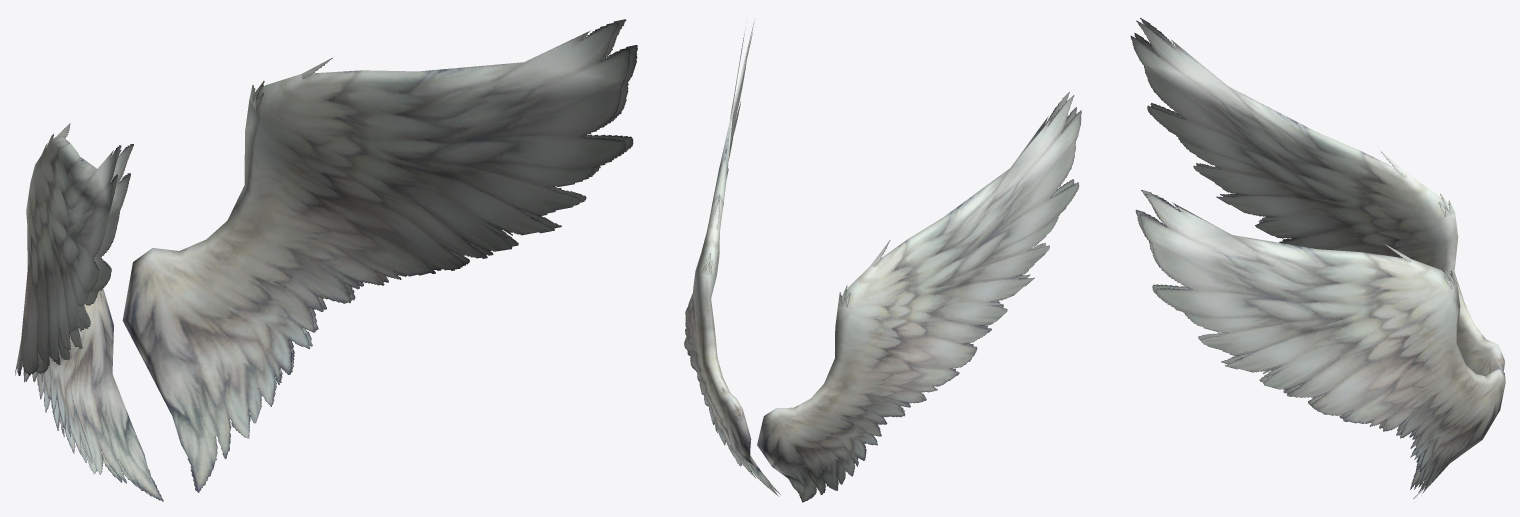
The model's file is wing_mugroup_angel.glb.
The picture shows the model from 3 angles, left to right: view 1: azimuth 30°, elevation 25°; view 2: azimuth 150°, elevation 25°; view 3: azimuth 270°, elevation 25°; orthographic projection. The views are drawn at different scales.
Visible parts, largest first — view 1: Item_RidRidWinAngel01; view 2: Item_RidRidWinAngel01; view 3: Item_RidRidWinAngel01.
Boxes of the visible parts, x1,y1,x2,y2 form: Item_RidRidWinAngel01: (15, 19, 637, 501); Item_RidRidWinAngel01: (684, 22, 1081, 502); Item_RidRidWinAngel01: (1130, 18, 1505, 498).
Bounding box in the file's own units: 2.08 × 2.04 × 1.79.
Materials: 1 (1 with a texture image).
